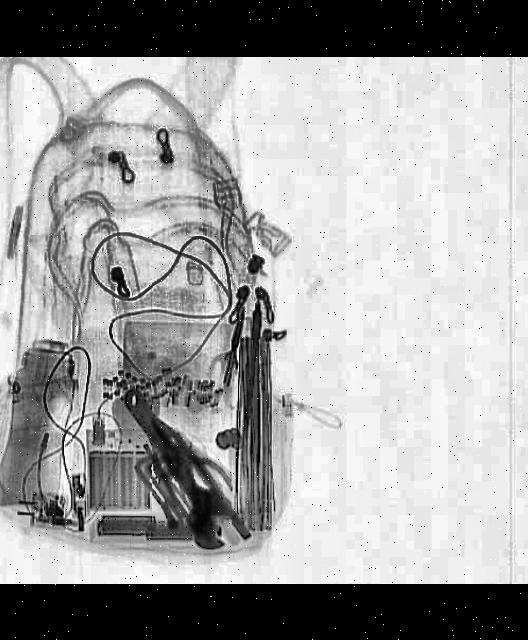Wrench: (106, 376, 252, 554)
